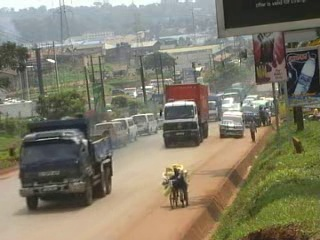Car: (239, 98, 255, 113), (223, 95, 234, 112)
